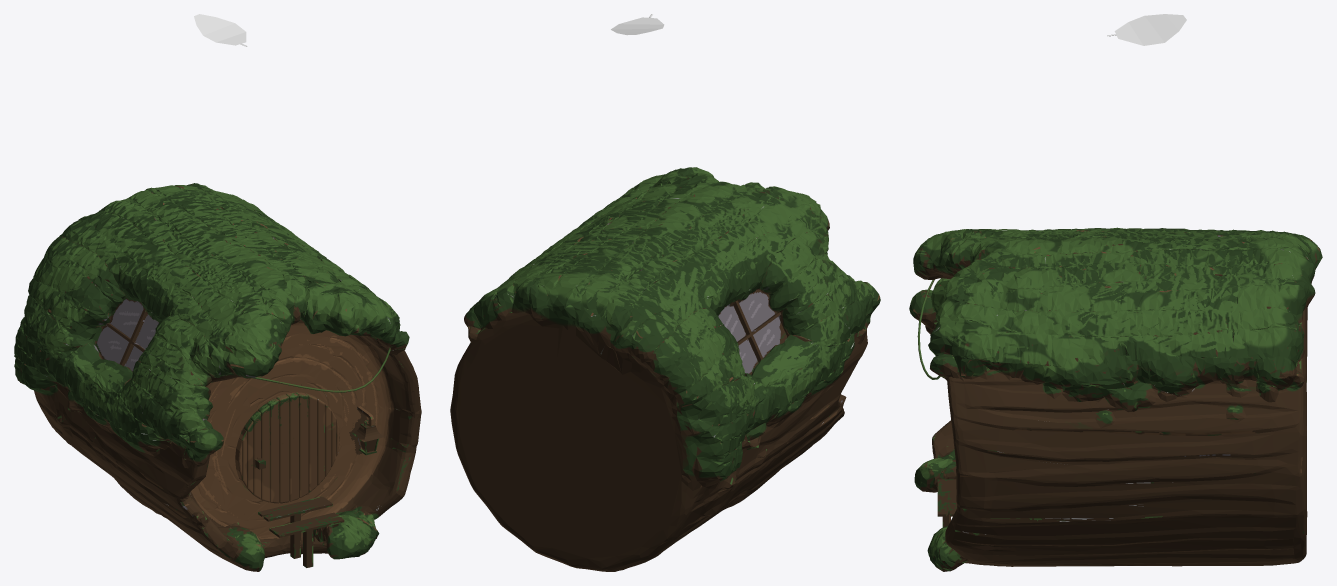
The model's file is Swamp_home.fbx.
3 views of the same model, side by side, from view 1: azimuth 30°, elevation 25°; view 2: azimuth 150°, elevation 25°; view 3: azimuth 270°, elevation 25° (orthographic). The views are drawn at different scales.
Parts seen in each view (by area): view 1: Cube, Cylinder; view 2: Cube, Cylinder; view 3: Cube, Cylinder.
Part boxes in pixels (x1,y1,x2,y2): Cube: (14, 183, 421, 571); Cylinder: (194, 14, 247, 46); Cube: (450, 167, 880, 571); Cylinder: (611, 14, 664, 35); Cube: (909, 227, 1322, 571); Cylinder: (1107, 14, 1186, 45).
Bounding box in the file's own units: 264 × 462 × 323.
